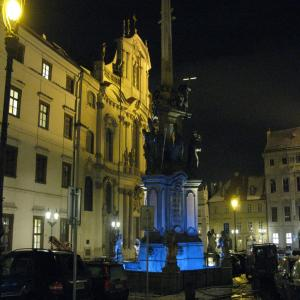Vehicle-registration-plate: (77, 283, 84, 291)
